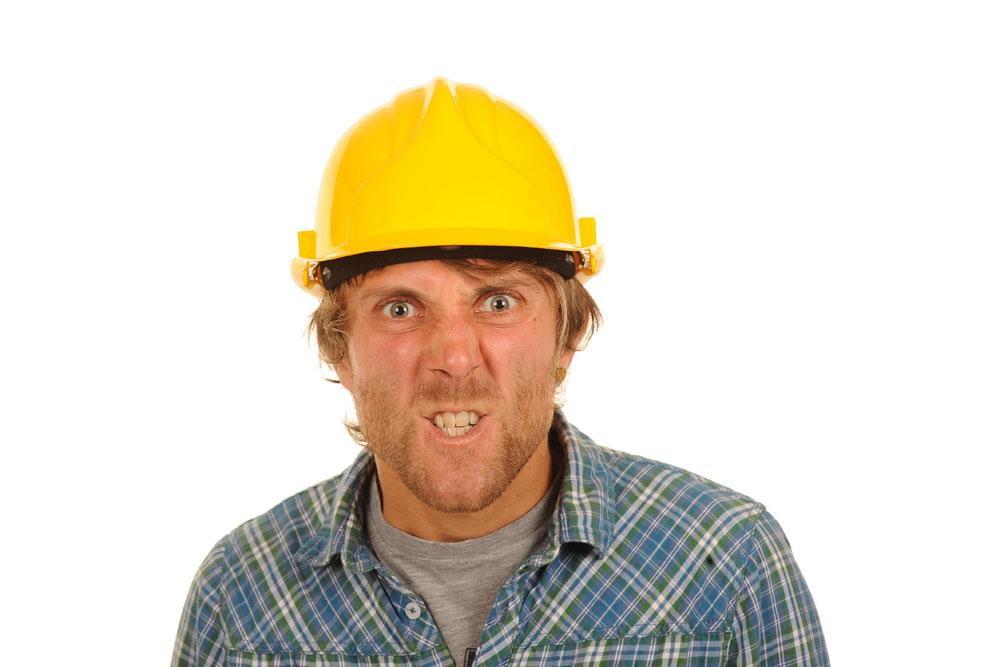helmet: (286, 76, 602, 308)
